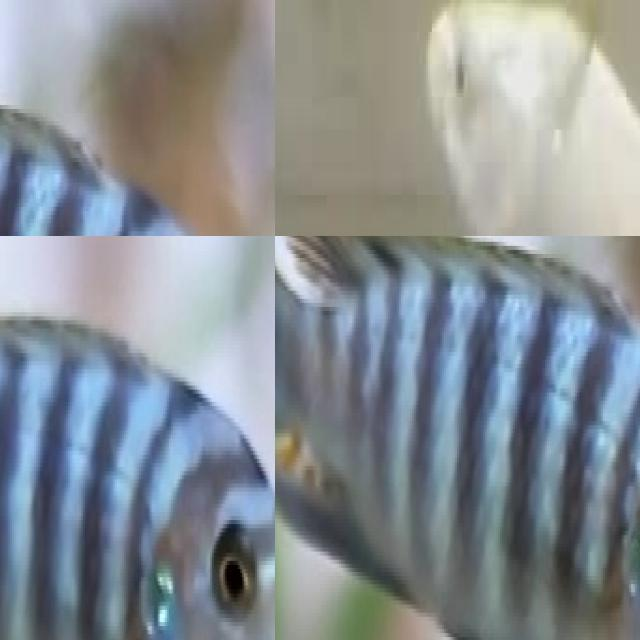fish: (0, 259, 275, 640), (0, 0, 275, 236), (401, 0, 640, 236)
